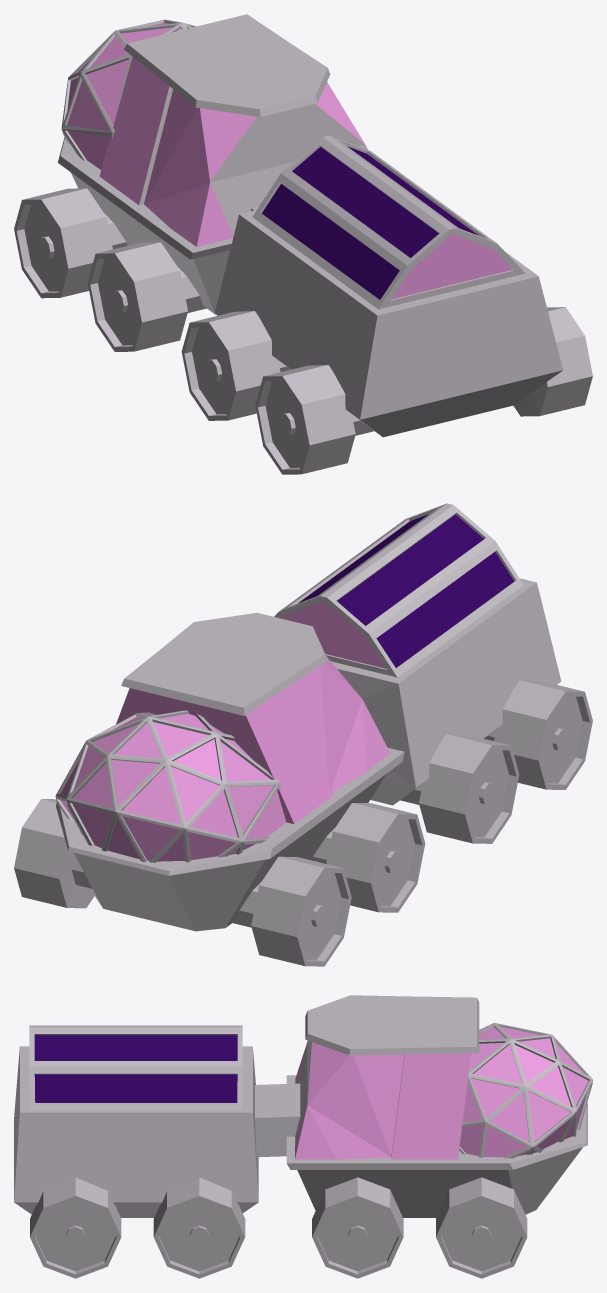
The picture shows the model from 3 angles, top to bottom: view 1: azimuth 30°, elevation 25°; view 2: azimuth 150°, elevation 25°; view 3: azimuth 270°, elevation 25°; orthographic projection. The views are drawn at different scales.
Visible parts, largest first — view 1: 太阳能车尾, 车头; view 2: 车头, 太阳能车尾; view 3: 车头, 太阳能车尾.
Part boxes in pixels (<box>): 太阳能车尾: <box>181,135,592,474</box>; 车头: <box>14,14,367,351</box>; 车头: <box>14,612,425,966</box>; 太阳能车尾: <box>274,503,592,843</box>; 车头: <box>286,995,592,1278</box>; 太阳能车尾: <box>14,1025,300,1278</box>.
Bounding box in the file's own units: 590 × 470 × 1240.
